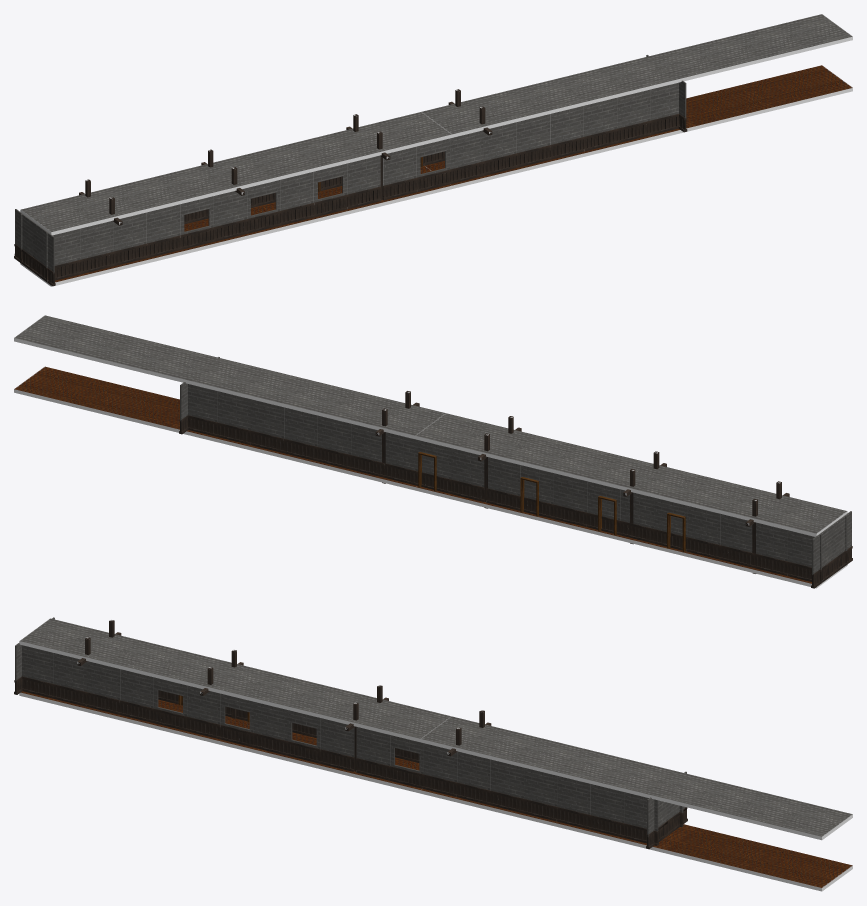
File: TotorialMk1.fbx
3 views of the same model, one above another, from view 1: azimuth 30°, elevation 25°; view 2: azimuth 150°, elevation 25°; view 3: azimuth 330°, elevation 25° (orthographic).
Visible parts, largest first — view 1: Floor_Longfbx__3_; view 2: Floor_Longfbx__3_; view 3: Floor_Longfbx__3_.
Boxes of the visible parts, bbox=[...] form: Floor_Longfbx__3_: bbox=[14, 14, 852, 286]; Floor_Longfbx__3_: bbox=[14, 315, 852, 588]; Floor_Longfbx__3_: bbox=[14, 617, 852, 891].
Size of the model in its own units: 6016 by 523 by 523.
